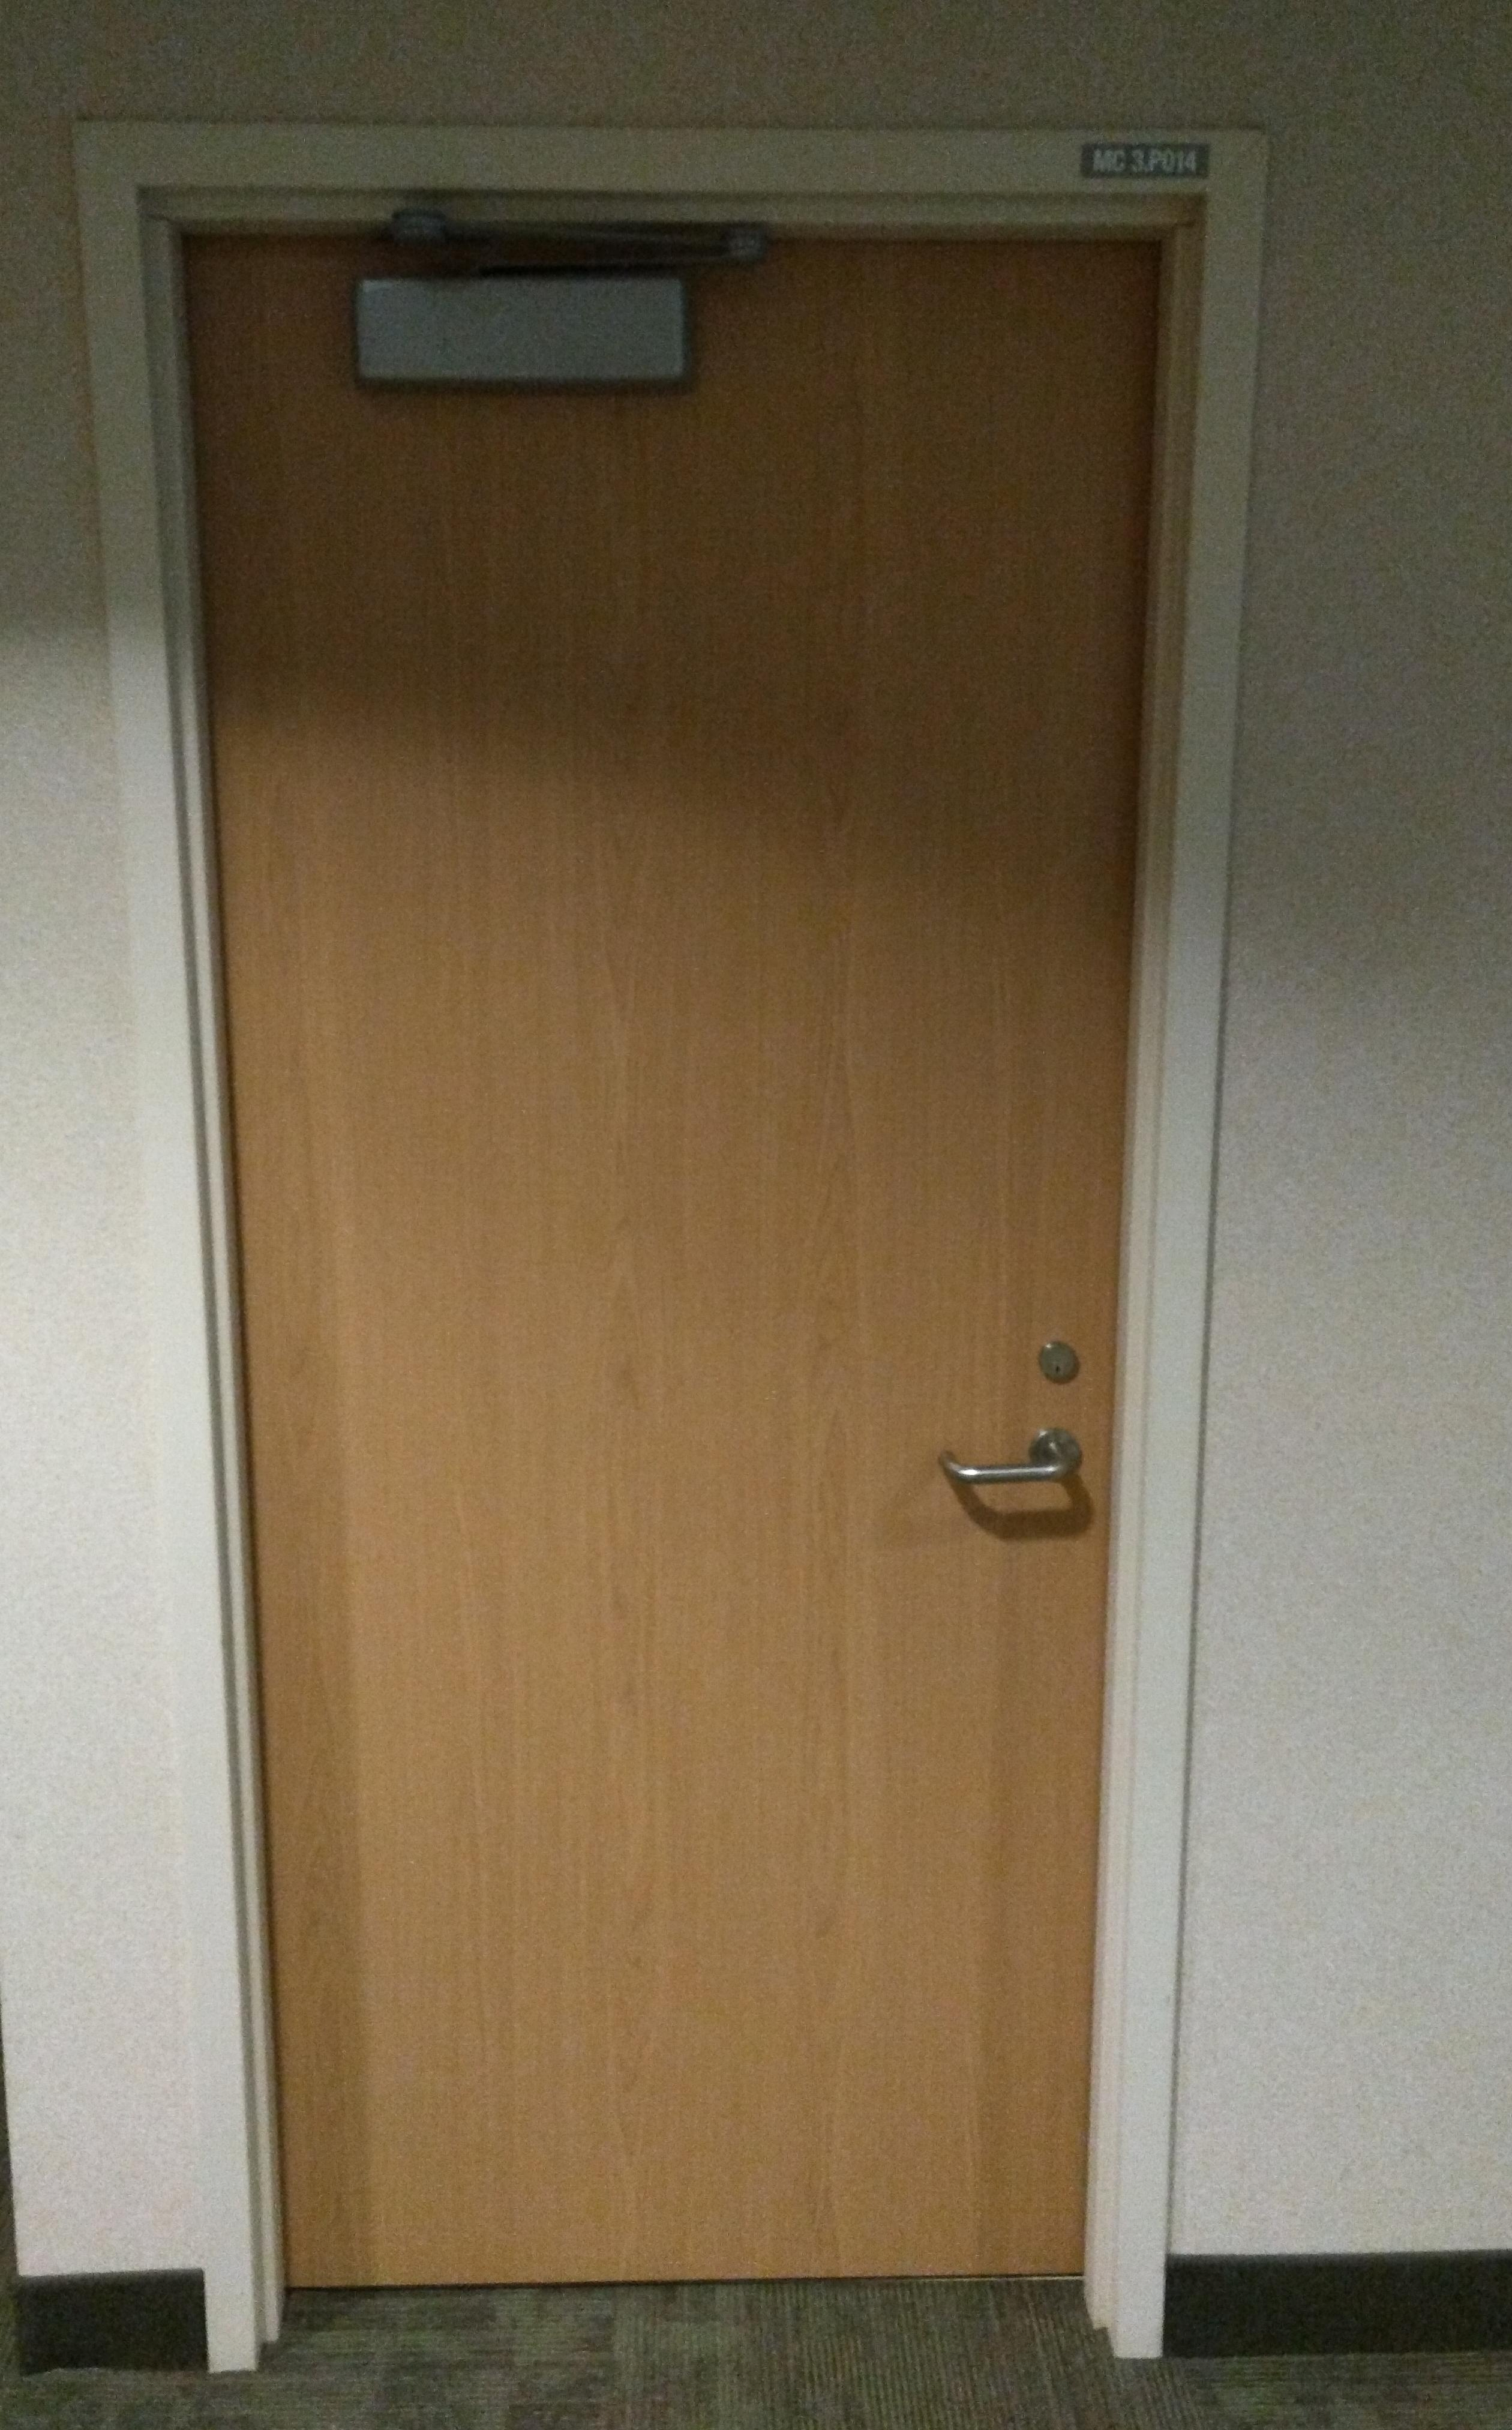door: (71, 122, 1280, 2371)
